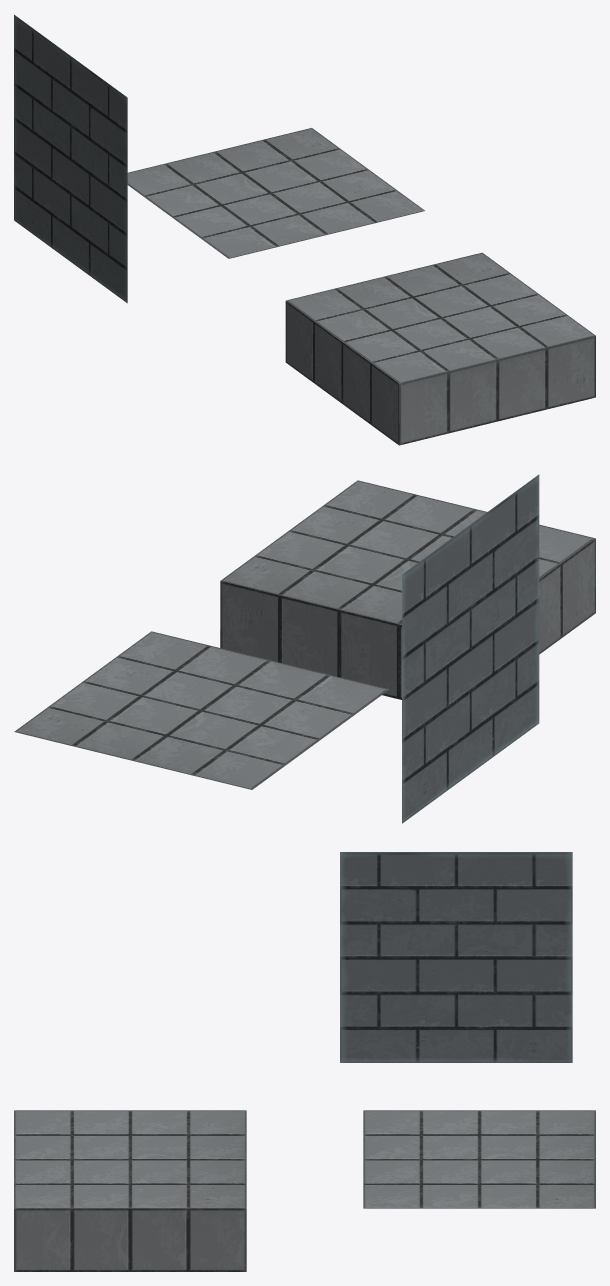
File: Wall_Floor.fbx
3 renders of one model, top to bottom at view 1: azimuth 30°, elevation 25°; view 2: azimuth 150°, elevation 25°; view 3: azimuth 270°, elevation 25°, orthographic. The views are drawn at different scales.
Visible parts, largest first — view 1: Platform, Wall, Floor; view 2: Platform, Wall, Floor; view 3: Wall, Platform, Floor.
Boxes of the visible parts, x1,y1,x2,y2 form: Platform: (285, 252, 595, 445); Wall: (14, 14, 127, 303); Floor: (127, 128, 424, 258); Platform: (220, 480, 595, 699); Wall: (402, 474, 539, 823); Floor: (14, 631, 389, 789); Wall: (340, 852, 572, 1062); Platform: (14, 1110, 246, 1271); Floor: (363, 1110, 595, 1208).
Size of the model in its own units: 314 by 251 by 500.
